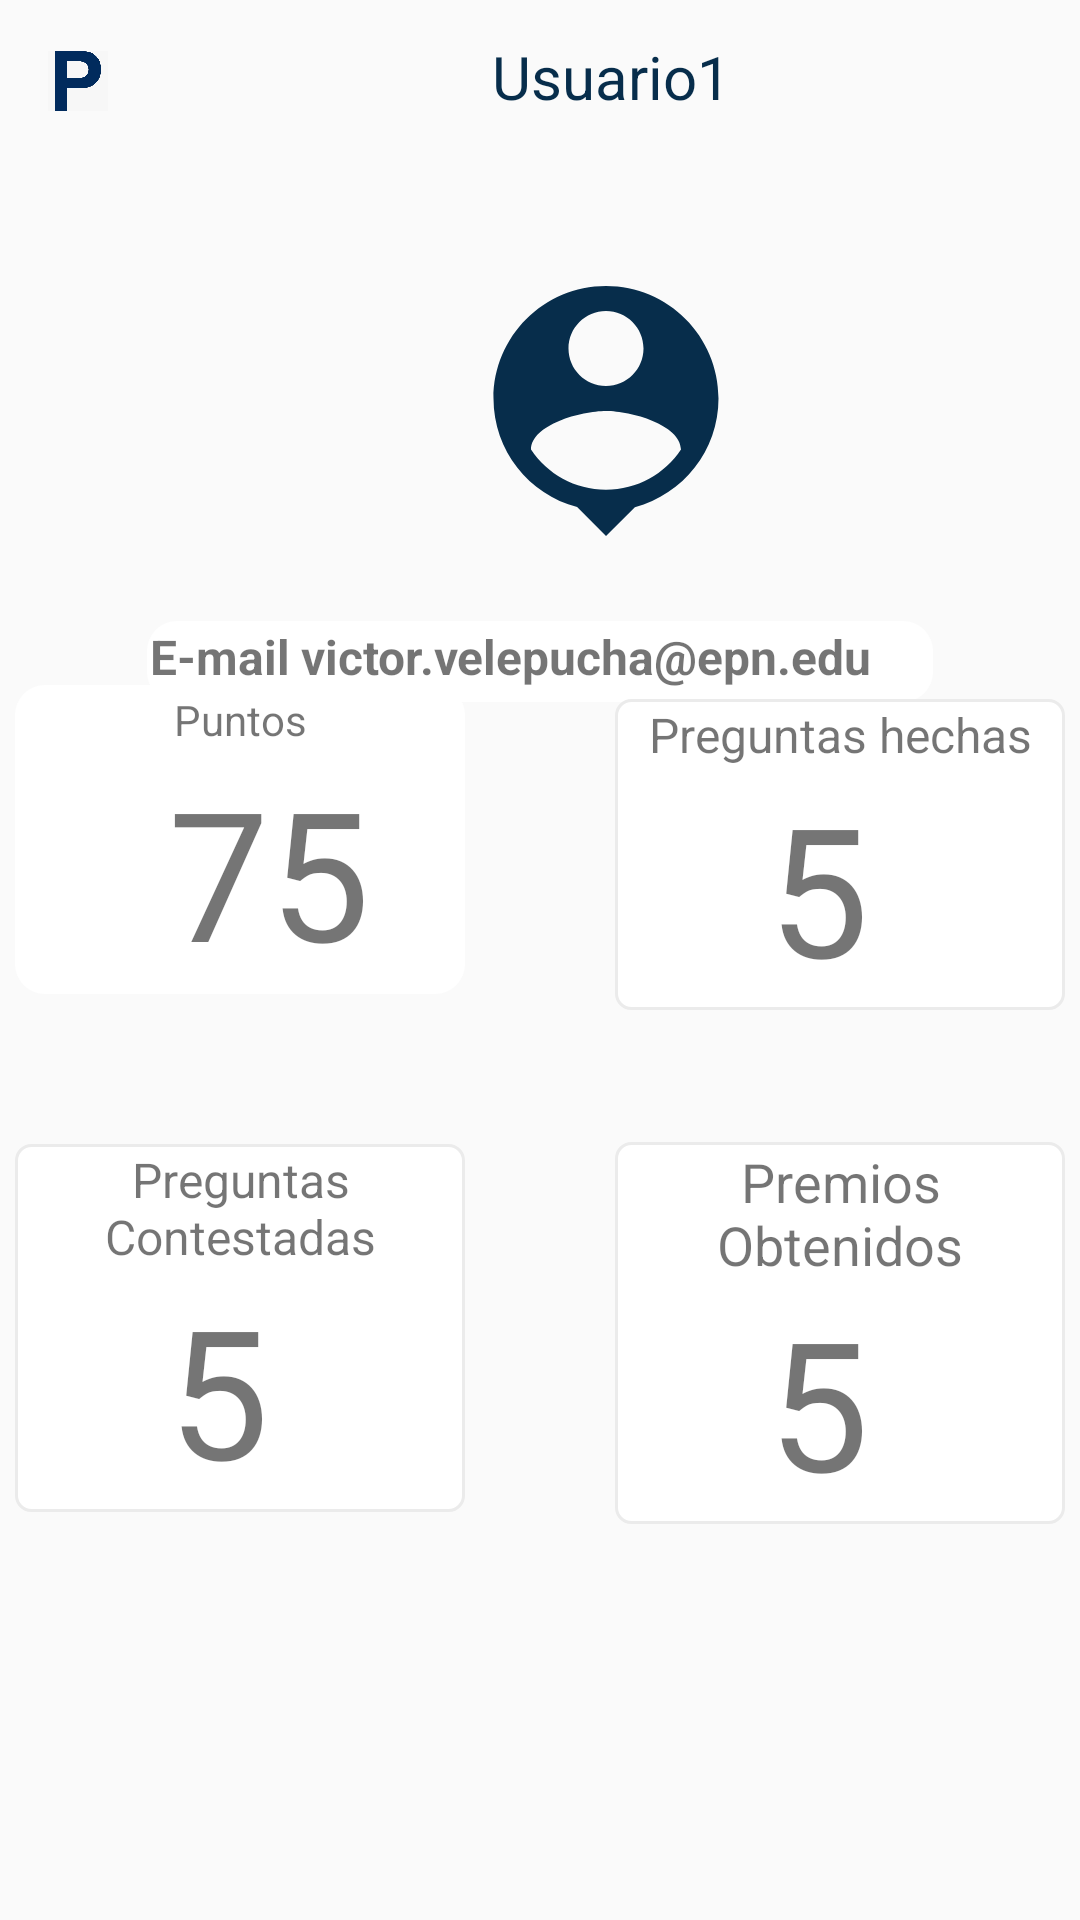

Icons on this 1080px×1920px Android screen, each with its box as [left=x1, top=y1, right=x2, bottom=y2]:
person pin: [left=493, top=286, right=719, bottom=536]
